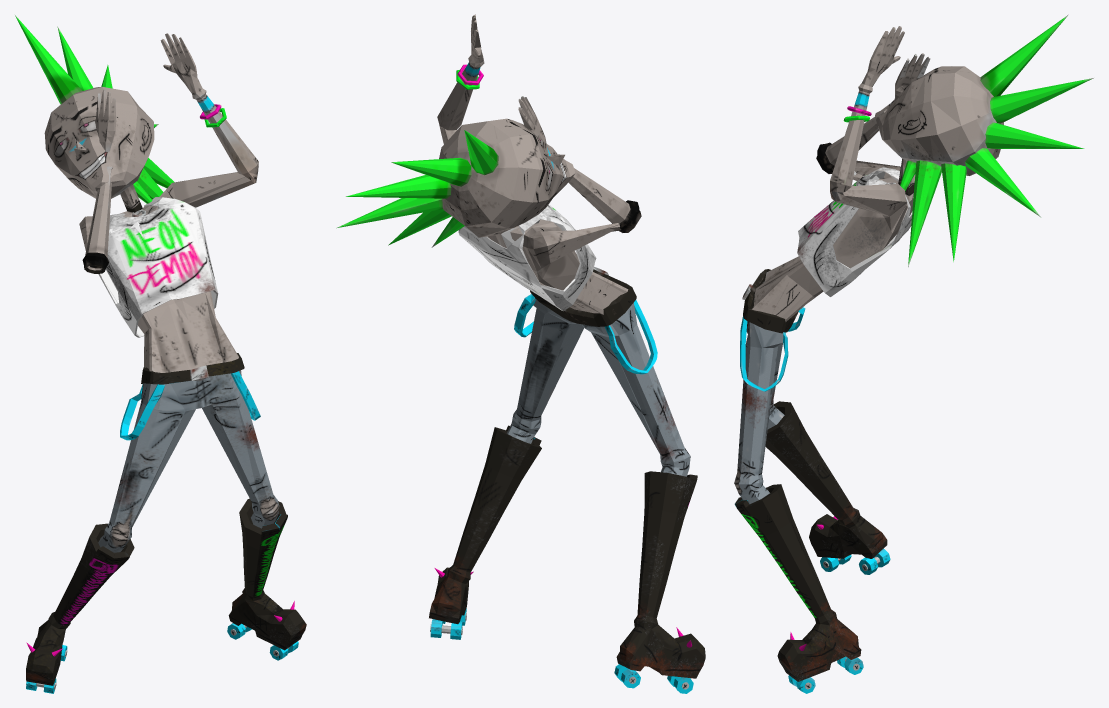
Rendered from punkAnimation_000086.obj.
3 renders of one model, left to right at view 1: azimuth 30°, elevation 25°; view 2: azimuth 150°, elevation 25°; view 3: azimuth 270°, elevation 25°, orthographic. The views are drawn at different scales.
Parts seen in each view (by area): view 1: Cube.004_Cube.003; view 2: Cube.004_Cube.003; view 3: Cube.004_Cube.003.
Boxes of the visible parts, left/top/right/bottom form: Cube.004_Cube.003: left=15, top=15, right=306, bottom=693; Cube.004_Cube.003: left=336, top=14, right=705, bottom=693; Cube.004_Cube.003: left=734, top=14, right=1093, bottom=693.
Bounding box in the file's own units: 2.91 × 6.42 × 3.33.
